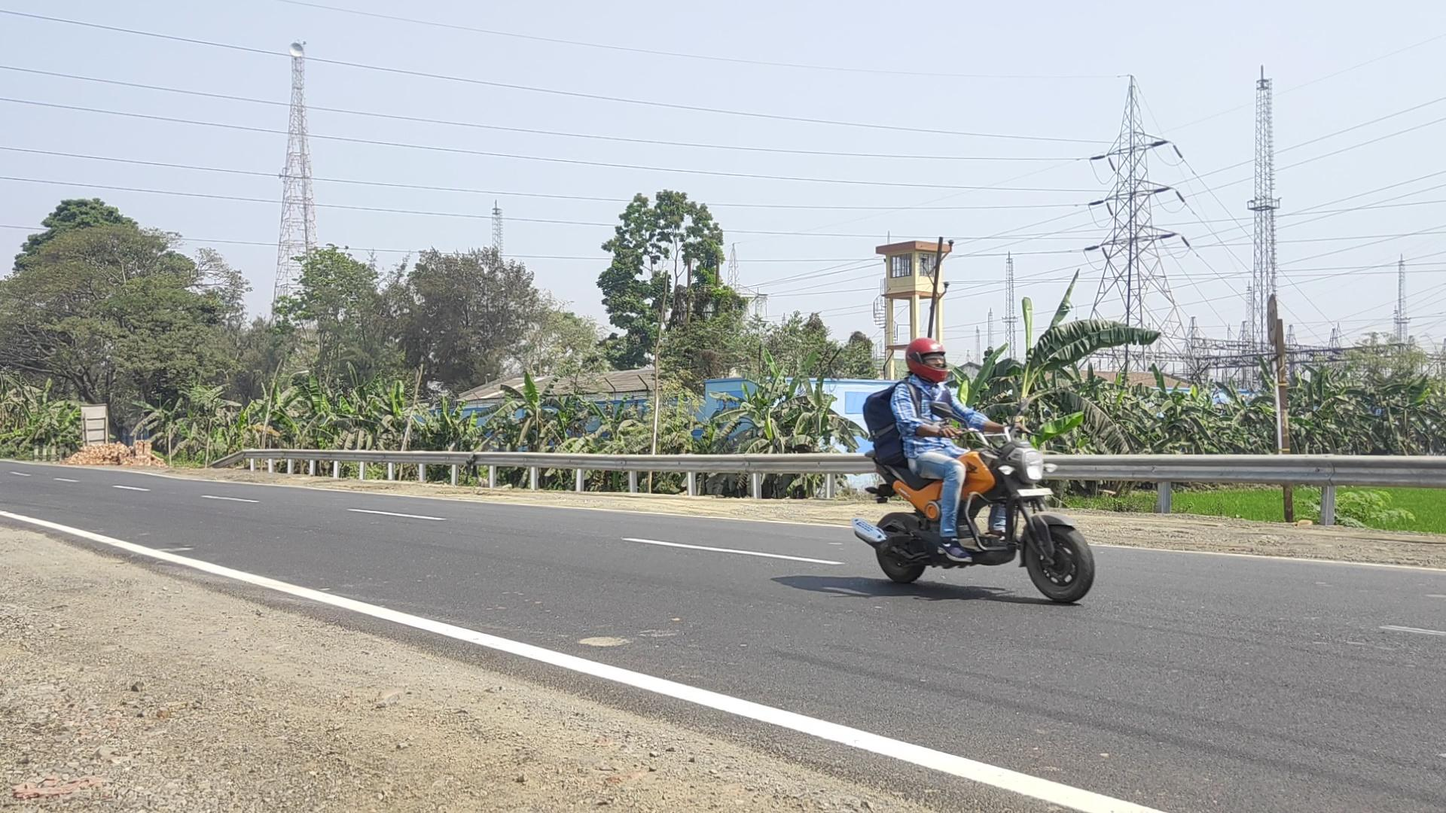bike: (853, 338, 1095, 604)
